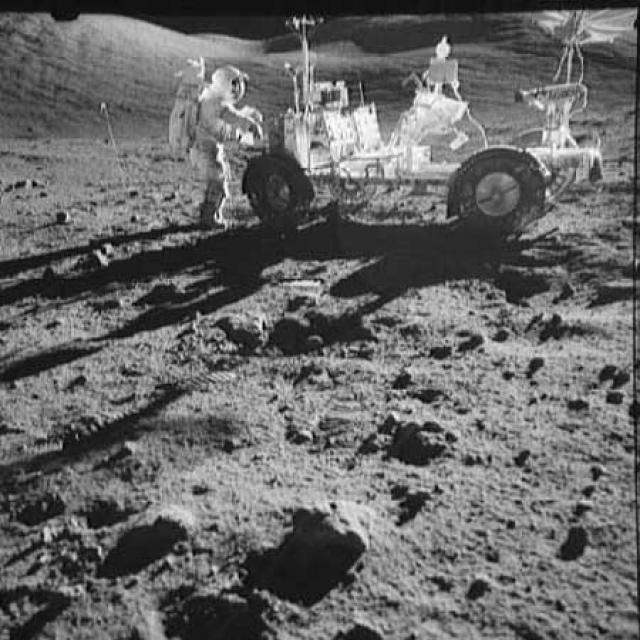artifact: (242, 8, 622, 234)
crater: (207, 298, 457, 362), (493, 309, 606, 356)
rock: (281, 490, 372, 558), (384, 406, 454, 456), (117, 506, 209, 543), (553, 511, 591, 556), (262, 256, 313, 281)
